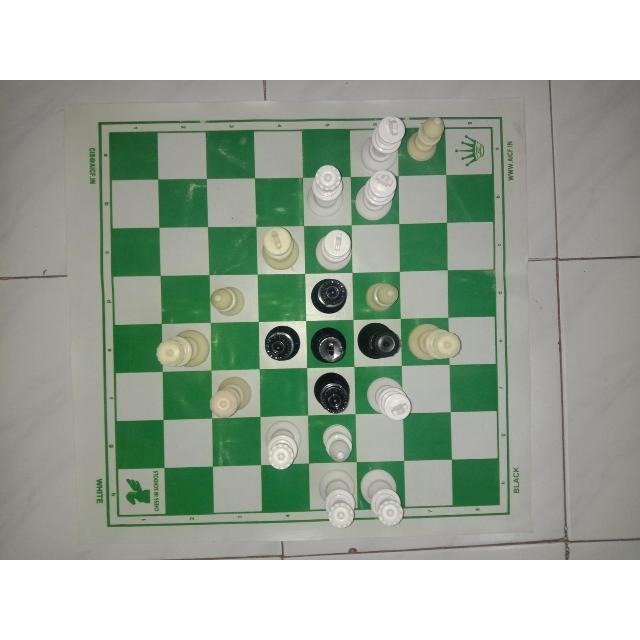black-king: (310, 323, 348, 365)
black-queen: (306, 273, 352, 317), (356, 321, 404, 363), (259, 324, 304, 368), (309, 370, 353, 414)
white-bishop: (408, 114, 448, 164), (206, 274, 248, 321), (314, 420, 356, 464), (359, 274, 400, 316)
white-king: (359, 113, 407, 171), (353, 170, 401, 222), (364, 372, 412, 420), (257, 226, 303, 274), (311, 226, 351, 274)
white-queen: (359, 467, 407, 529), (315, 466, 357, 534), (155, 324, 209, 374), (305, 161, 346, 221), (207, 372, 257, 421), (407, 320, 462, 364), (262, 417, 303, 474)
